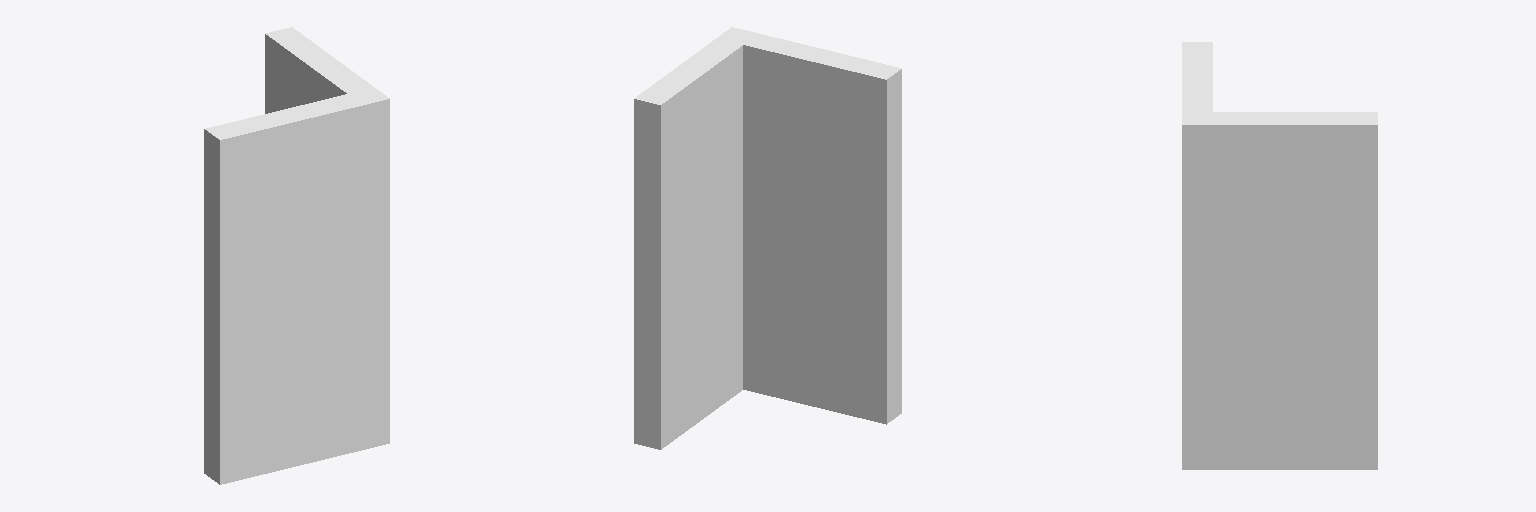
File: Vaissseau-3-Angle.obj
3 renders of one model, left to right at view 1: azimuth 30°, elevation 25°; view 2: azimuth 150°, elevation 25°; view 3: azimuth 270°, elevation 25°, orthographic.
Visible parts, largest first — view 1: Angle; view 2: Angle; view 3: Angle.
Boxes of the visible parts, x1=… form: Angle: x1=204, y1=27, x2=389, y2=484; Angle: x1=634, y1=27, x2=901, y2=449; Angle: x1=1182, y1=42, x2=1377, y2=469.
Bounding box in the file's own units: 6.3 × 12.2 × 6.3.